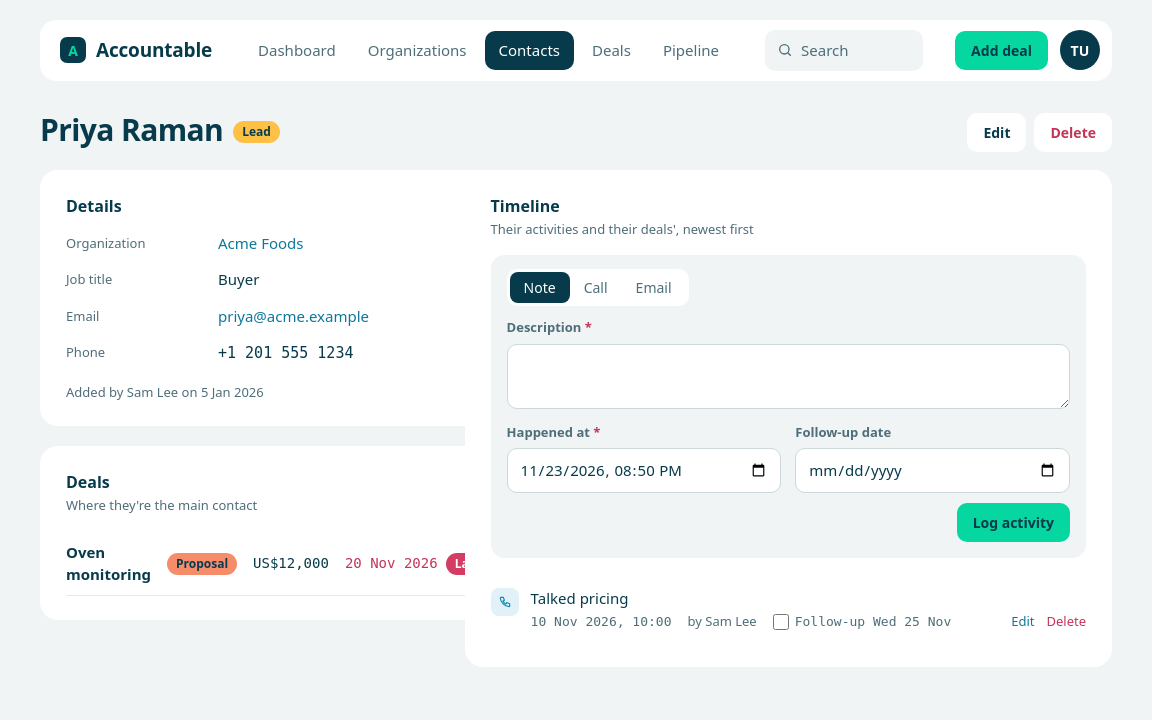
deleting goes back to the contacts
The width and height of the screenshot is (1152, 720).
Later steps or results of the test are not shown.
Click the button "Delete" in the row of "Lead": (1073, 132) [1034,112,1112,152]
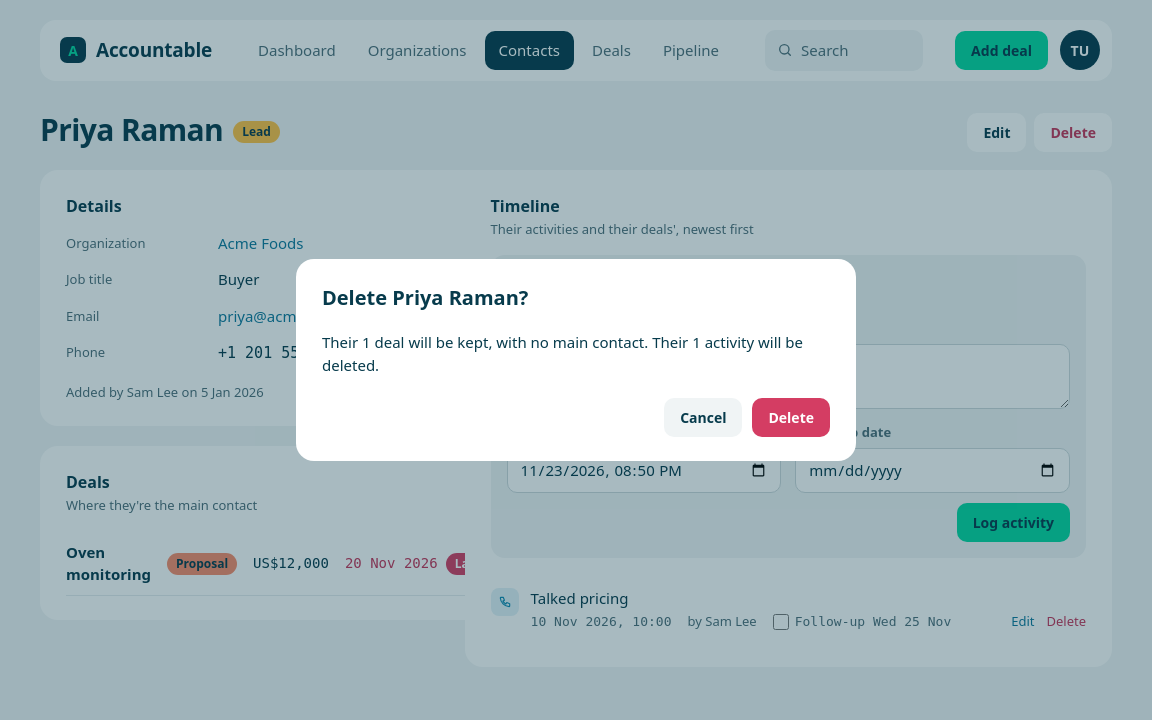
Expected: the text "Their 1 deal will be kept" is shown, [322,332,803,374]
